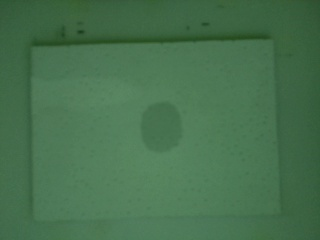Water_detected: (150, 102, 188, 147)
